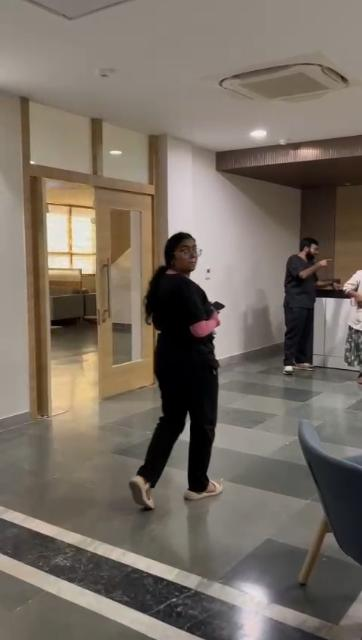floor: (1, 334, 362, 640)
moving-obj: (120, 228, 244, 510), (269, 226, 327, 376)
object: (272, 418, 362, 586), (51, 280, 93, 330)
wall: (229, 190, 283, 346), (168, 143, 218, 225)
